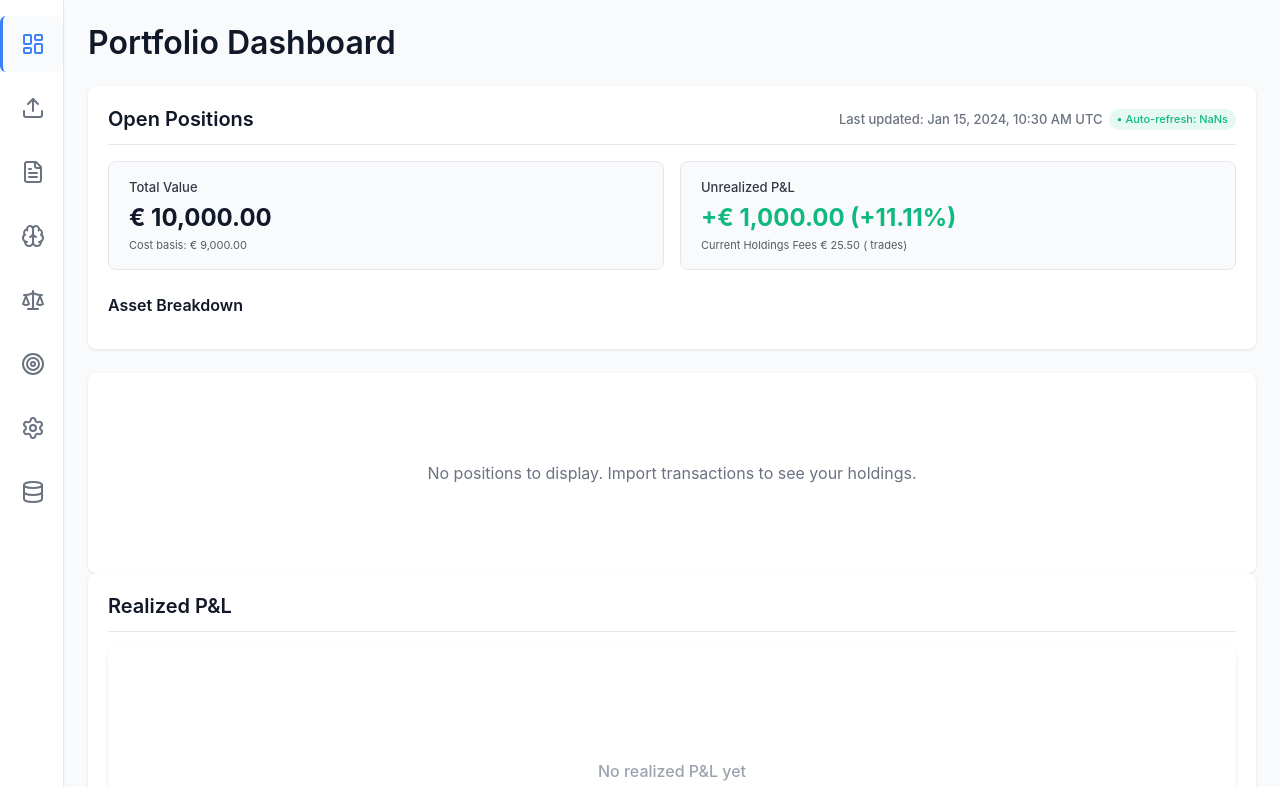
Test: App Integration Tests - Epic 6 › Database Reset Flow › opens reset modal when database reset is clicked
Note: Open database submenu
Click the button titled "Database".
click(32, 492)  # box [0, 464, 63, 520]
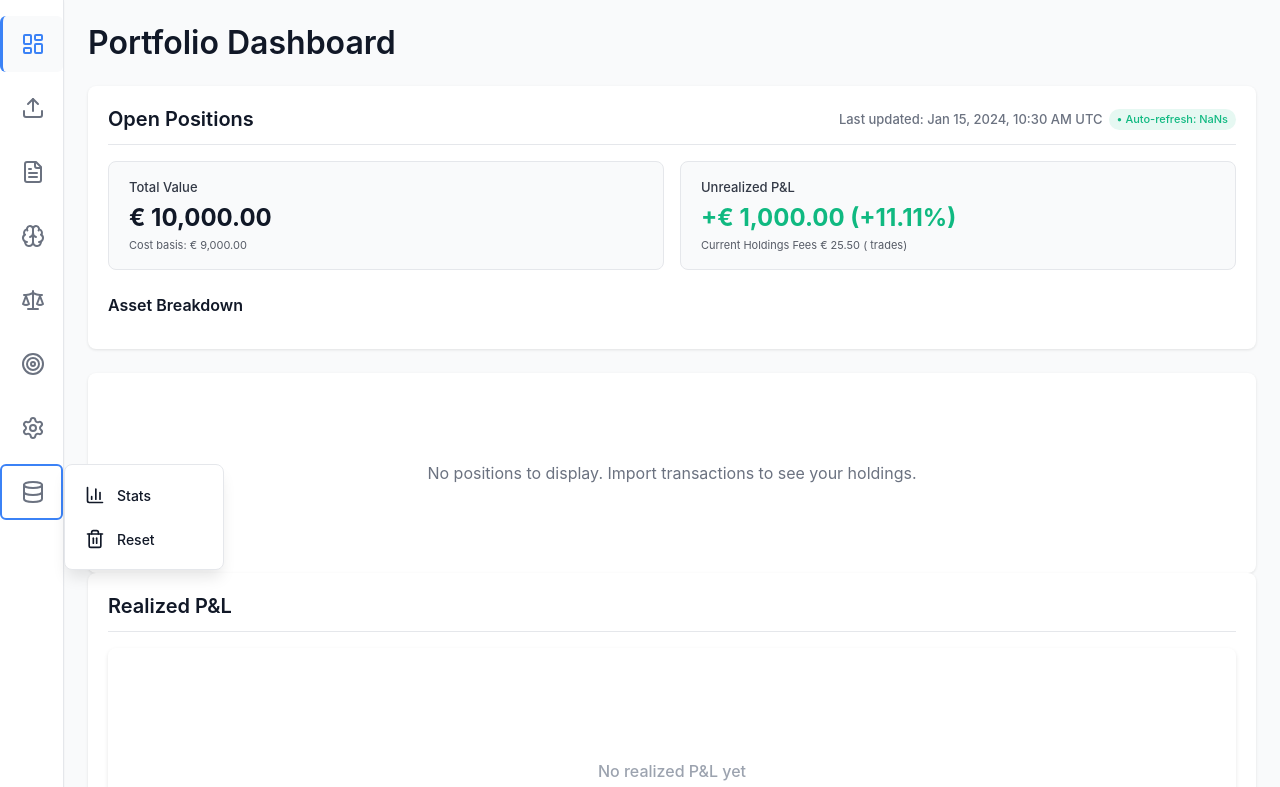
Expected: the text "Reset" is shown, [117, 530, 155, 548]
Note: Click reset
Click the menu item "Reset".
click(144, 539)  # box [73, 517, 215, 561]
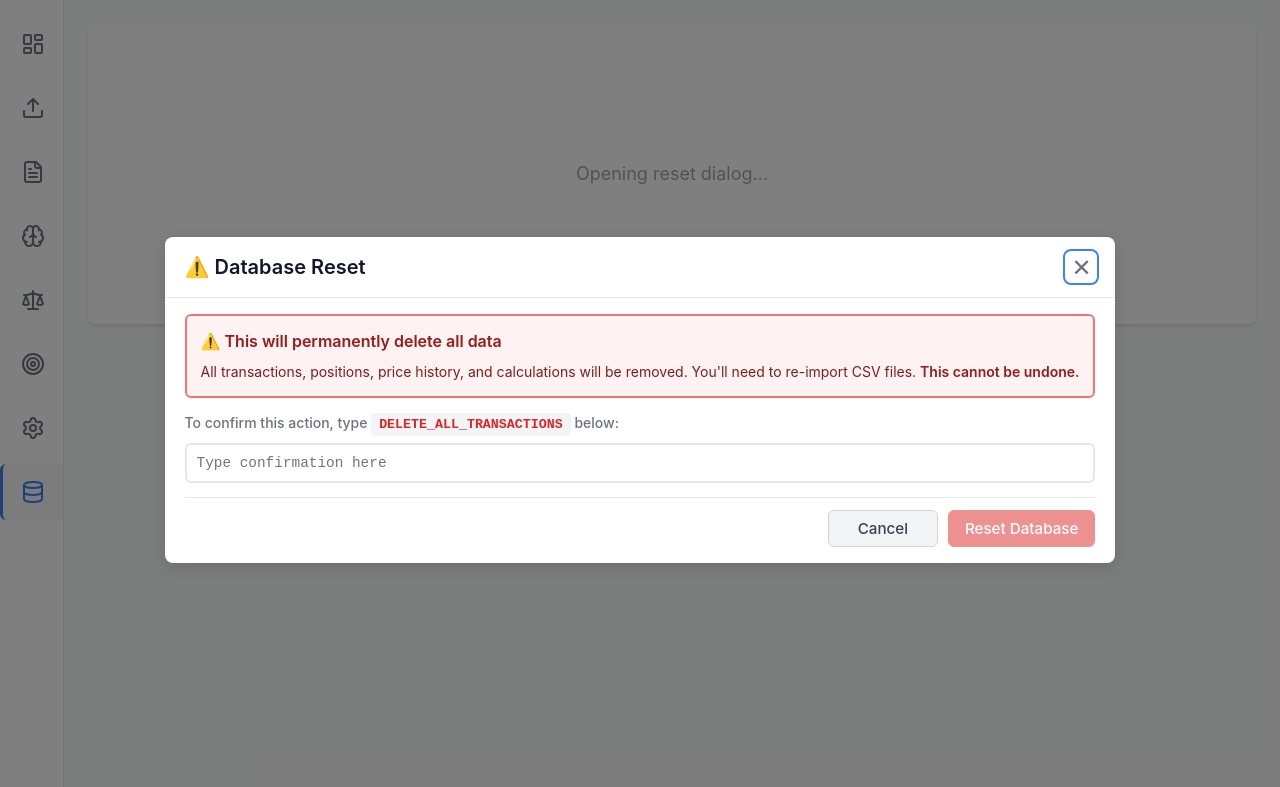
Expected: the heading "⚠️ Database Reset" is shown, [184, 255, 366, 279]
